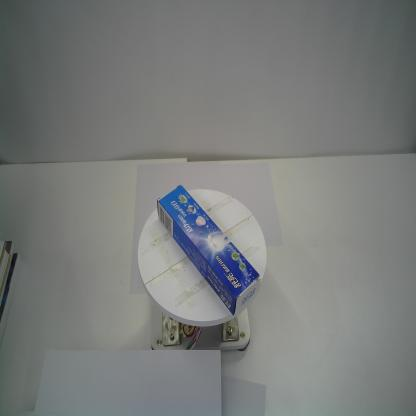Personal Hygiene: (156, 183, 262, 317)
